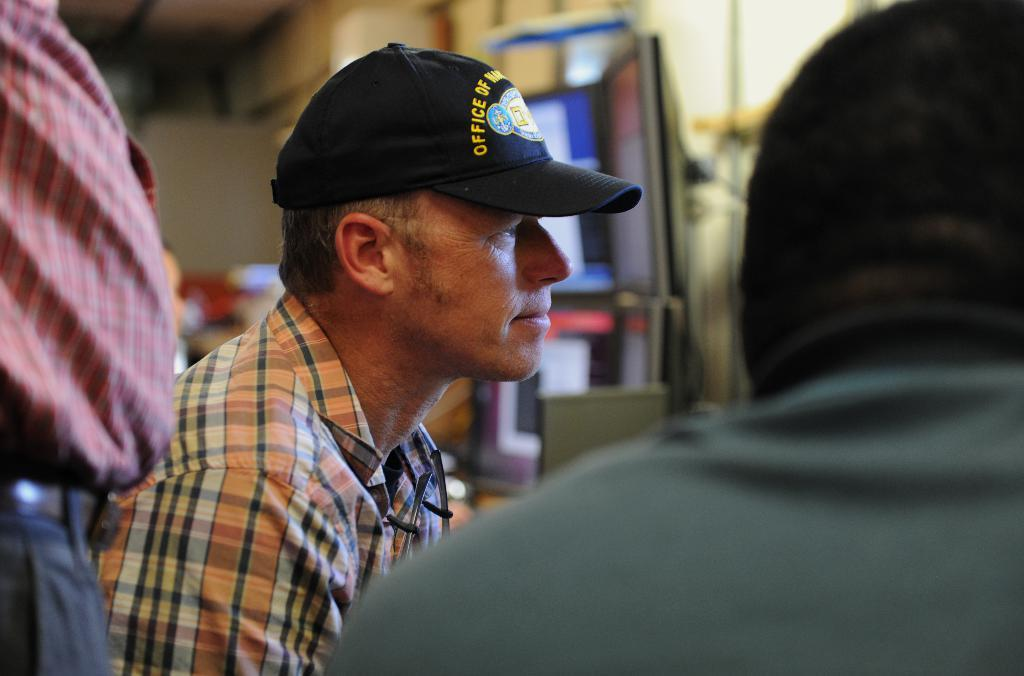Hat: (270, 40, 642, 218)
